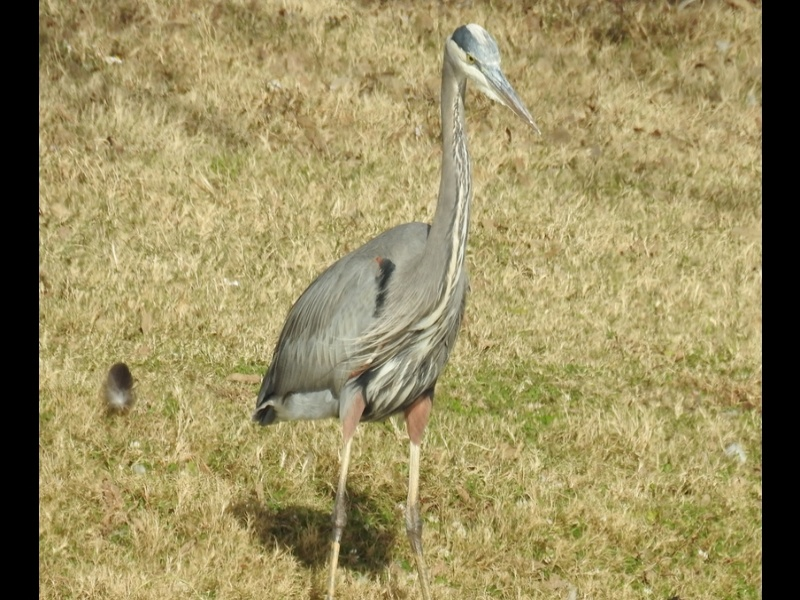heron: (252, 22, 543, 594)
